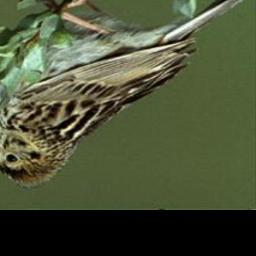Sparrow: (0, 0, 252, 193)
